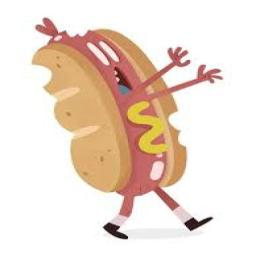hotdog: (34, 14, 200, 195)
